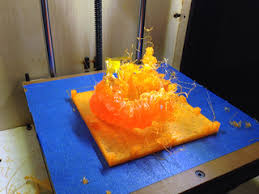Fail: (66, 23, 228, 173)
